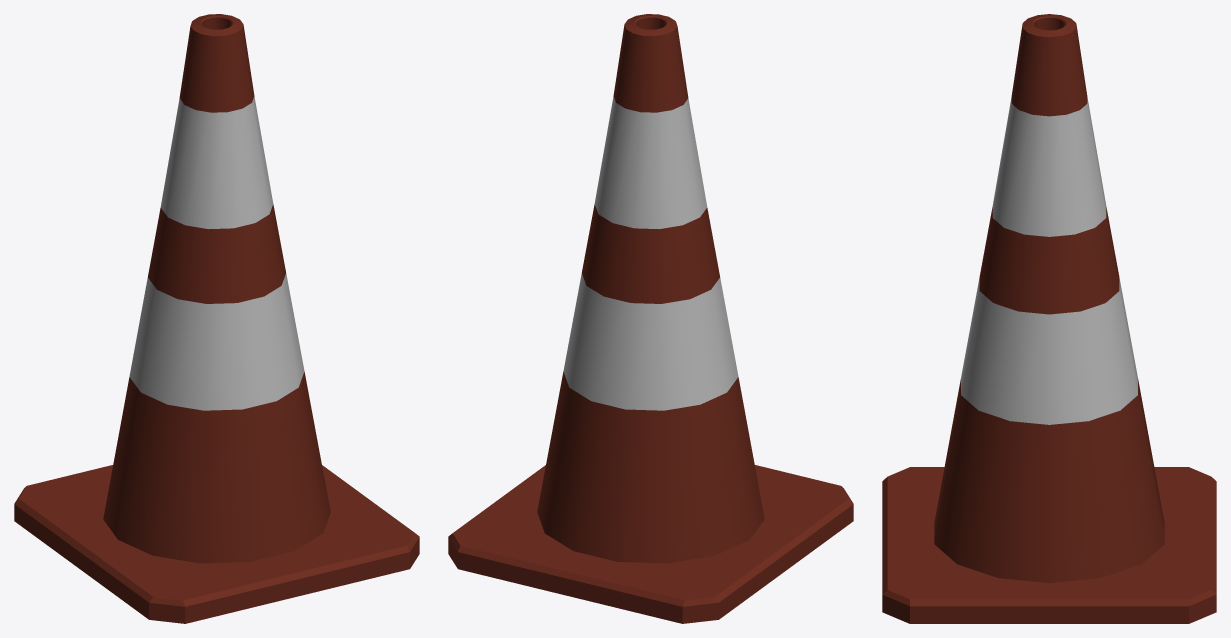
3 renders of one model, left to right at view 1: azimuth 30°, elevation 25°; view 2: azimuth 150°, elevation 25°; view 3: azimuth 270°, elevation 25°, orthographic. The views are drawn at different scales.
Visible parts, largest first — view 1: cone; view 2: cone; view 3: cone.
Part boxes in pixels (<box>): cone: <box>14,14,419,623</box>; cone: <box>448,14,853,623</box>; cone: <box>882,14,1216,623</box>.
Size of the model in its own units: 34.07 by 61.89 by 35.21.
